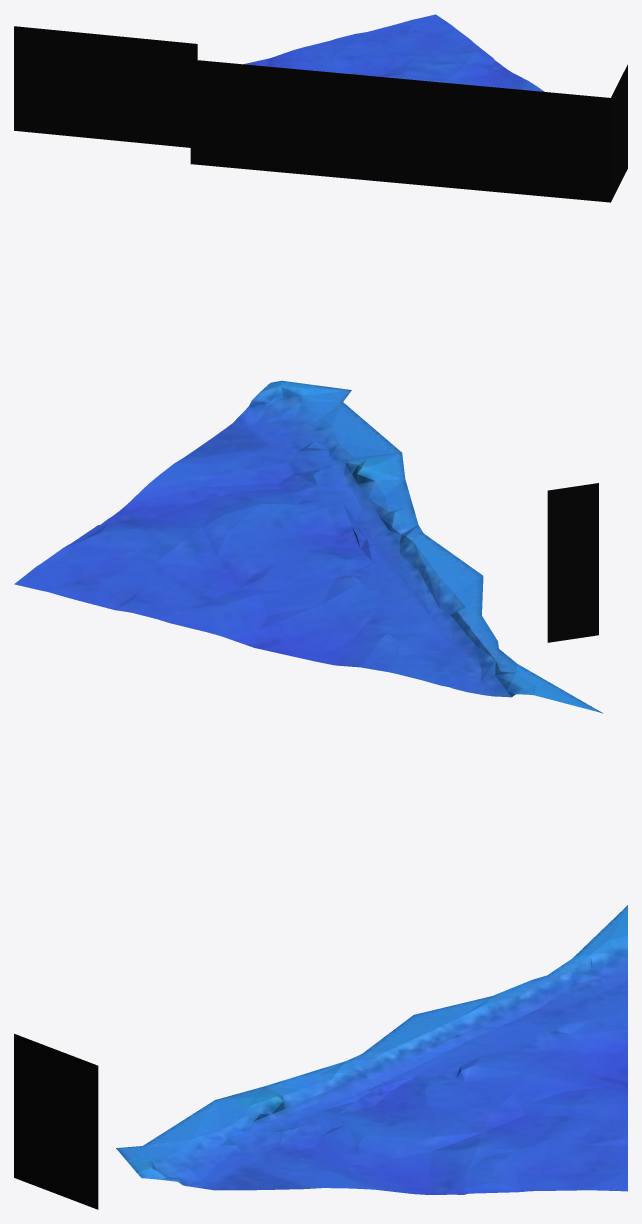
The picture shows the model from 3 angles, top to bottom: view 1: azimuth 30°, elevation 25°; view 2: azimuth 150°, elevation 25°; view 3: azimuth 270°, elevation 25°; orthographic projection. The views are drawn at different scales.
Size of the model in its own units: 37.97 by 9 by 34.73.
Materials: 2 (2 with a texture image).
